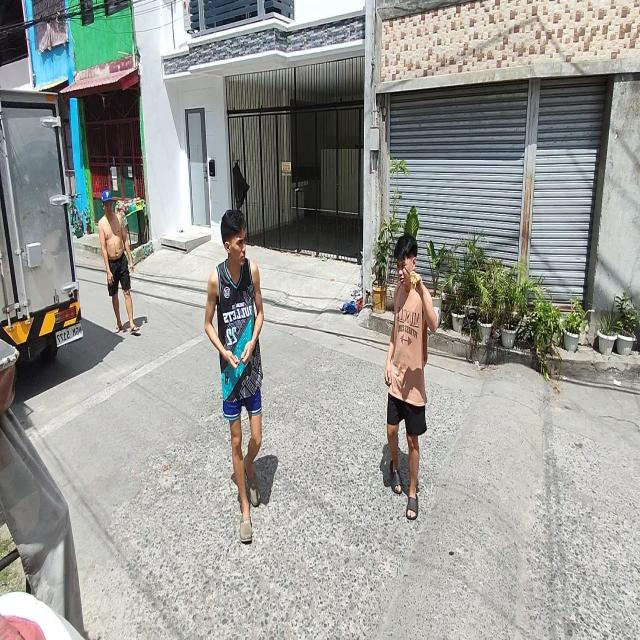scissor: (404, 266, 417, 289)
